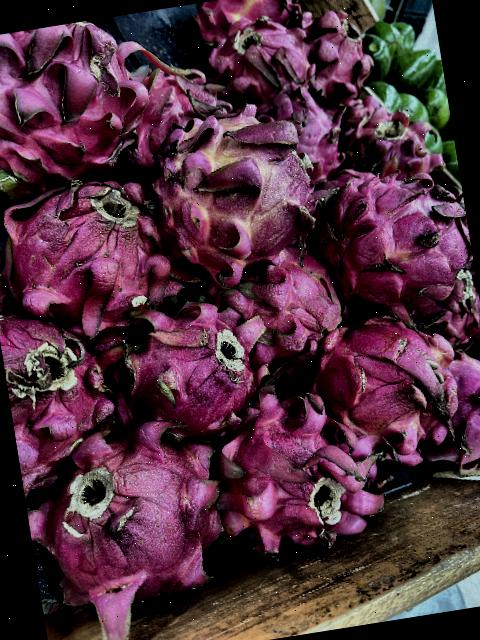buah-naga-belum-matang: (146, 96, 320, 275), (194, 0, 302, 37)
buah-naga-matang: (36, 412, 235, 636), (209, 376, 392, 565), (318, 152, 480, 333), (0, 170, 178, 333), (102, 284, 270, 448), (308, 301, 466, 473), (0, 15, 141, 189), (0, 289, 122, 472), (221, 246, 350, 357), (206, 6, 312, 108), (126, 51, 234, 150), (267, 82, 353, 180), (348, 94, 442, 178), (426, 335, 480, 468), (300, 4, 378, 90)
